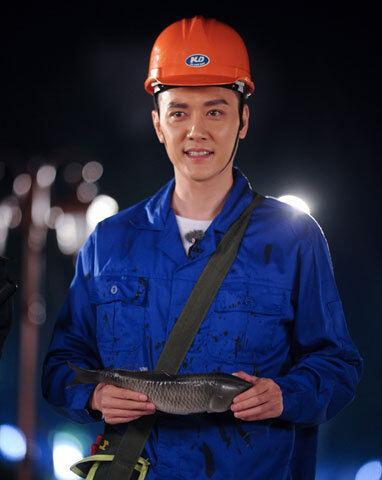helmet: (144, 18, 261, 96)
